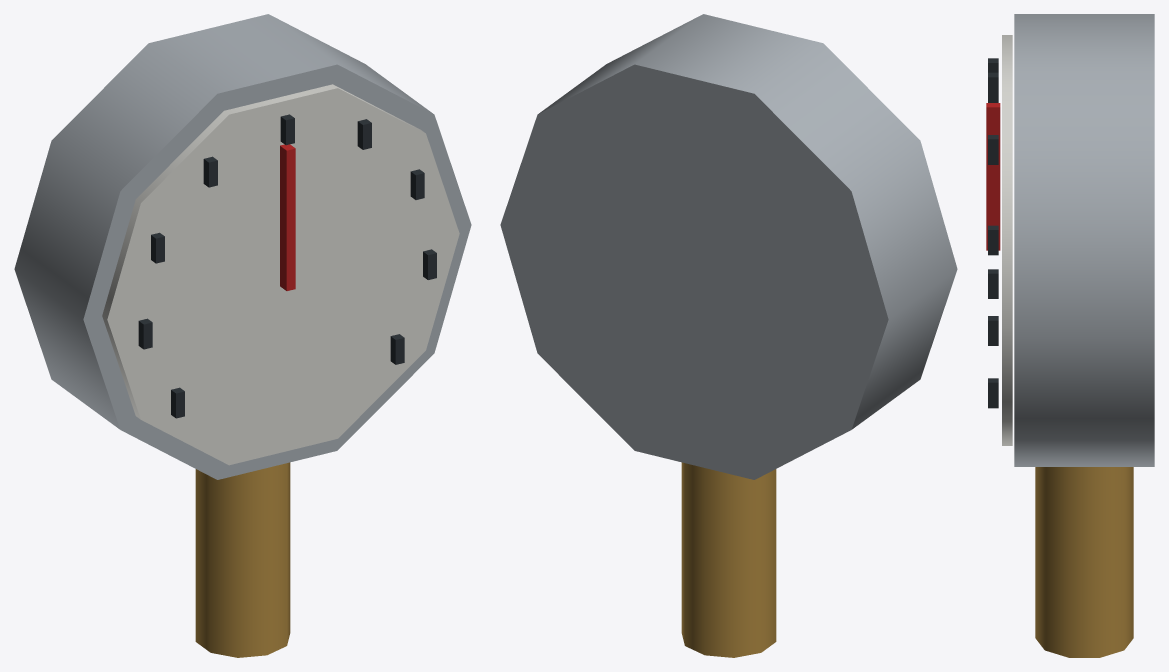
3 views of the same model, side by side, from view 1: azimuth 30°, elevation 25°; view 2: azimuth 150°, elevation 25°; view 3: azimuth 270°, elevation 25° (orthographic).
Visible parts, largest first — view 1: dial, case, stem, needle; view 2: case, stem; view 3: case, stem, dial, needle, tick4, tick6, tick8, tick0, tick5, tick7.
Boxes of the visible parts, x1=… form: dial: x1=102, y1=84, x2=459, y2=465; case: x1=14, y1=14, x2=471, y2=479; stem: x1=195, y1=462, x2=290, y2=657; needle: x1=280, y1=144, x2=295, y2=290; case: x1=500, y1=14, x2=957, y2=479; stem: x1=681, y1=462, x2=776, y2=657; case: x1=1014, y1=14, x2=1154, y2=466; stem: x1=1035, y1=467, x2=1133, y2=657; dial: x1=1002, y1=35, x2=1012, y2=445; needle: x1=986, y1=103, x2=1000, y2=250; tick4: x1=988, y1=72, x2=998, y2=102; tick6: x1=988, y1=225, x2=998, y2=255; tick8: x1=988, y1=378, x2=998, y2=408; tick0: x1=988, y1=269, x2=998, y2=298; tick5: x1=988, y1=135, x2=998, y2=164; tick7: x1=988, y1=316, x2=998, y2=345.
Size of the model in its own units: 0.13 by 0.1868 by 0.048.
